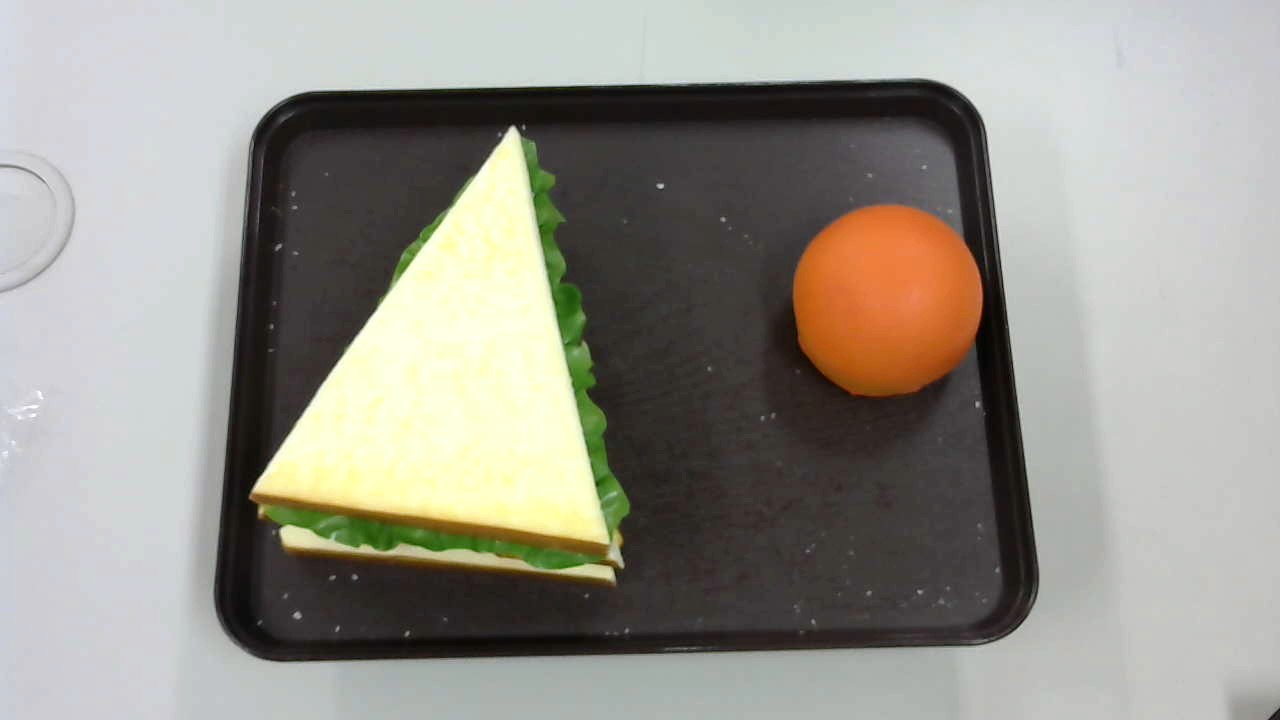bun: (793, 202, 983, 398)
sandwich: (246, 123, 629, 593)
